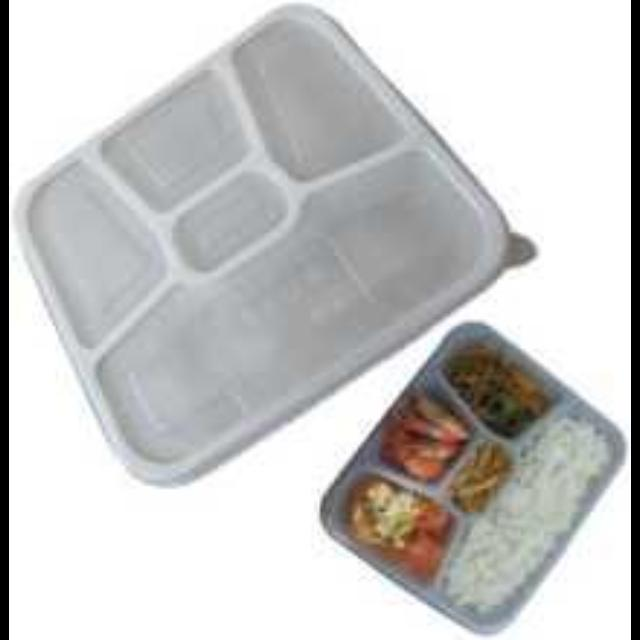plastic_box: (9, 1, 538, 486), (300, 306, 628, 634), (317, 321, 599, 614)
